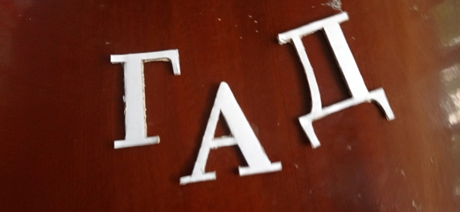a: (179, 81, 282, 186)
d: (278, 12, 395, 150)
g: (109, 48, 182, 150)
